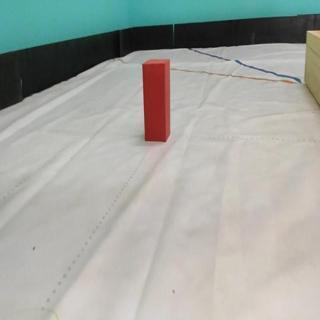redbox: (141, 57, 169, 142)
